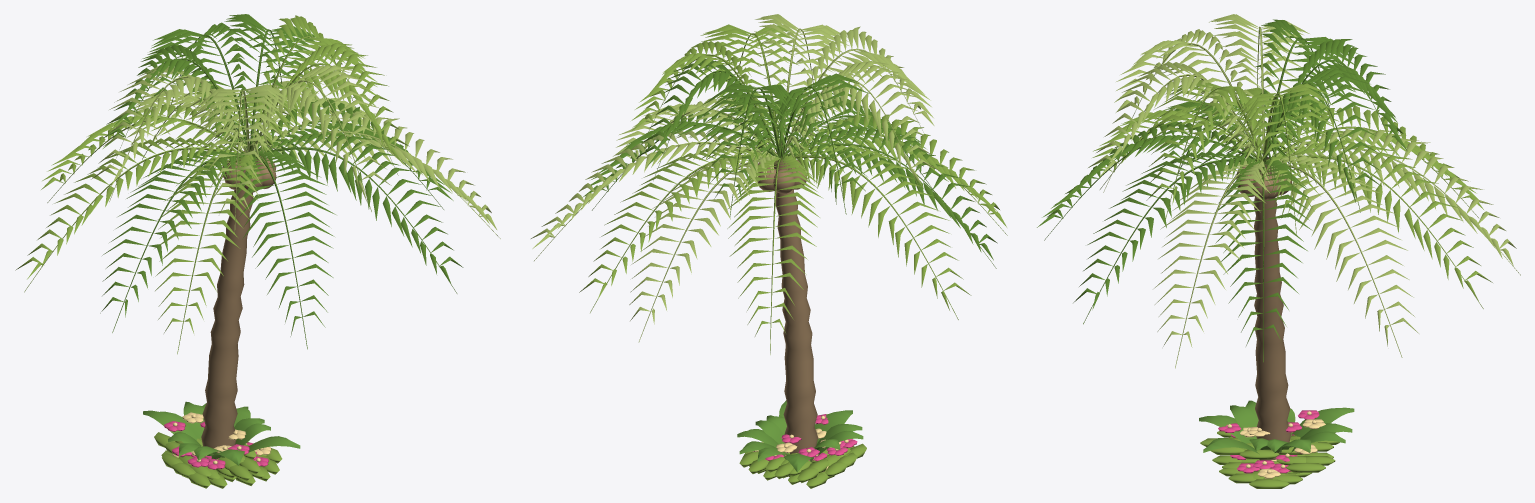
Rendered from oasis-botanical-library-mobile-lod-v1-38844d1da9.glb.
3 renders of one model, left to right at view 1: azimuth 30°, elevation 25°; view 2: azimuth 150°, elevation 25°; view 3: azimuth 270°, elevation 25°, orthographic. The views are drawn at different scales.
Visible parts, largest first — view 1: PalmCrown, PalmTrunk, Flowers, Fern; view 2: PalmCrown, PalmTrunk, Flowers, Fern; view 3: PalmCrown, PalmTrunk, Flowers, Fern.
Boxes of the visible parts, x1=… form: PalmCrown: x1=15, y1=14, x2=500, y2=354; PalmTrunk: x1=201, y1=150, x2=276, y2=448; Flowers: x1=154, y1=412, x2=282, y2=488; Fern: x1=143, y1=401, x2=300, y2=465; PalmCrown: x1=531, y1=14, x2=1007, y2=354; PalmTrunk: x1=756, y1=159, x2=818, y2=476; Flowers: x1=739, y1=414, x2=866, y2=488; Fern: x1=737, y1=400, x2=863, y2=472; PalmCrown: x1=1037, y1=14, x2=1520, y2=368; PalmTrunk: x1=1236, y1=157, x2=1291, y2=460; Flowers: x1=1200, y1=410, x2=1339, y2=488; Fern: x1=1199, y1=400, x2=1354, y2=454.
Size of the model in its own units: 4.51 by 4.34 by 4.47.
